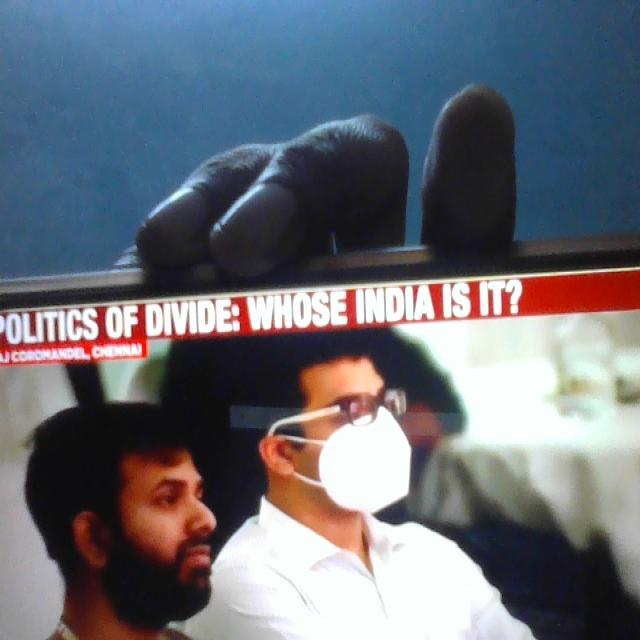fake: (98, 376, 220, 607)
